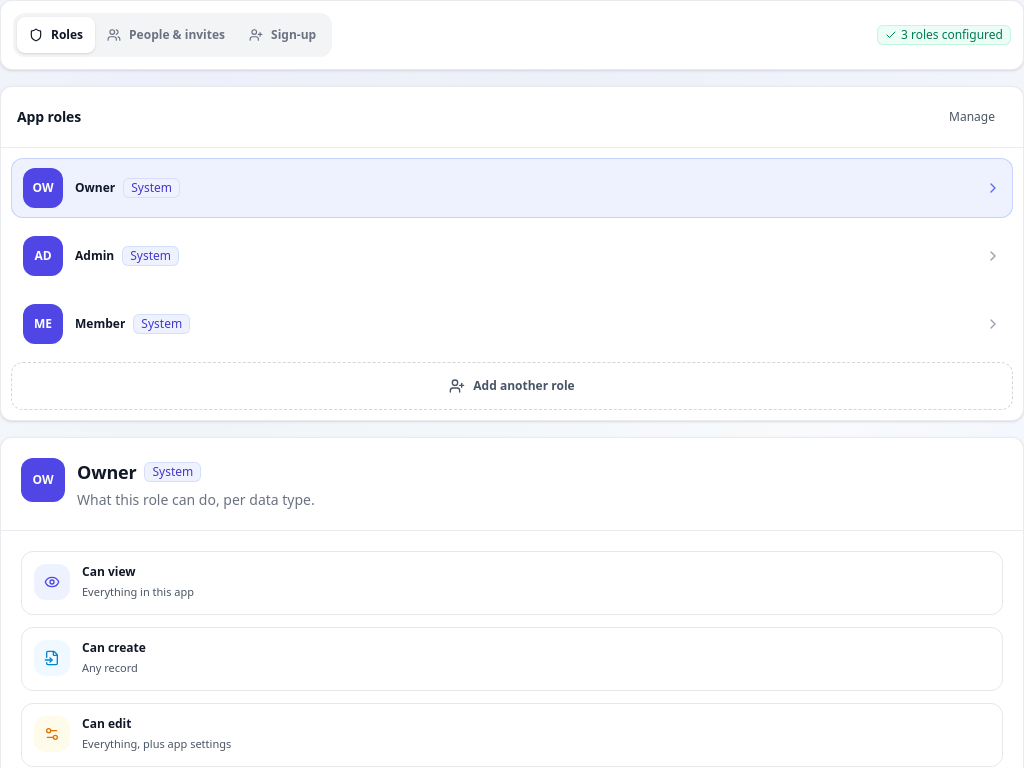
Test: AccessStep people, for a manager who is not the Owner › disables the role and Remove of a member whose role grants an app-level permission, and says why
Click the tab "People & invites". click: (166, 35)
box: x1=95 y1=17 x2=237 y2=53
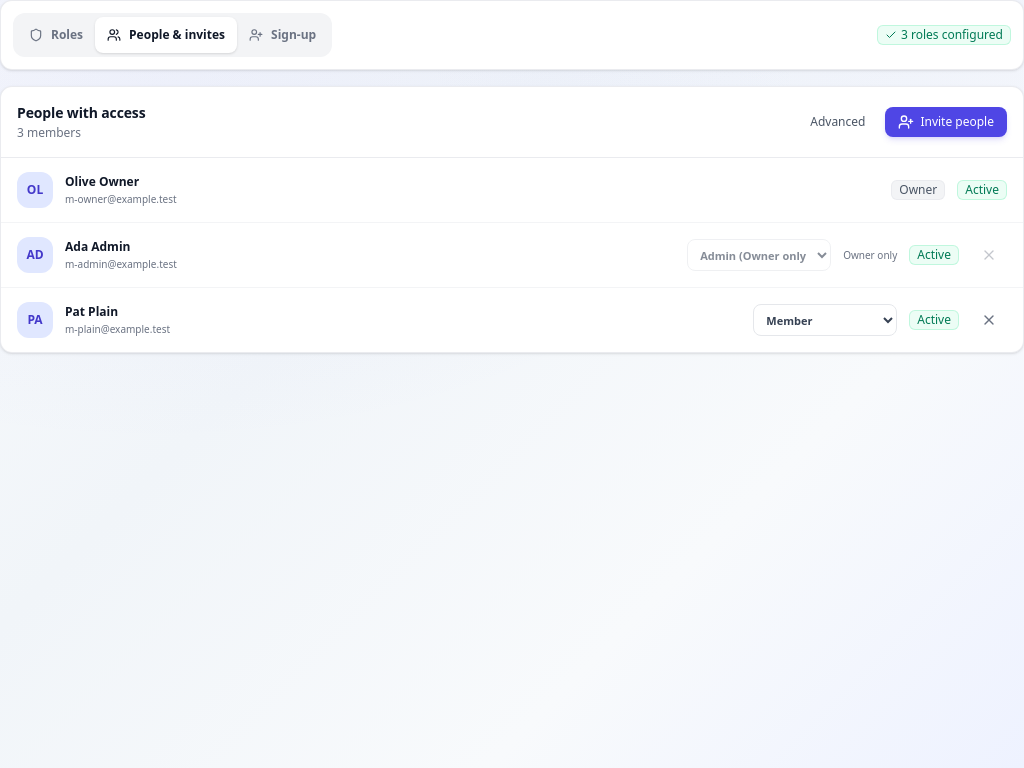
Result: the text "Owner only" is shown at x1=843 y1=248 x2=897 y2=262
